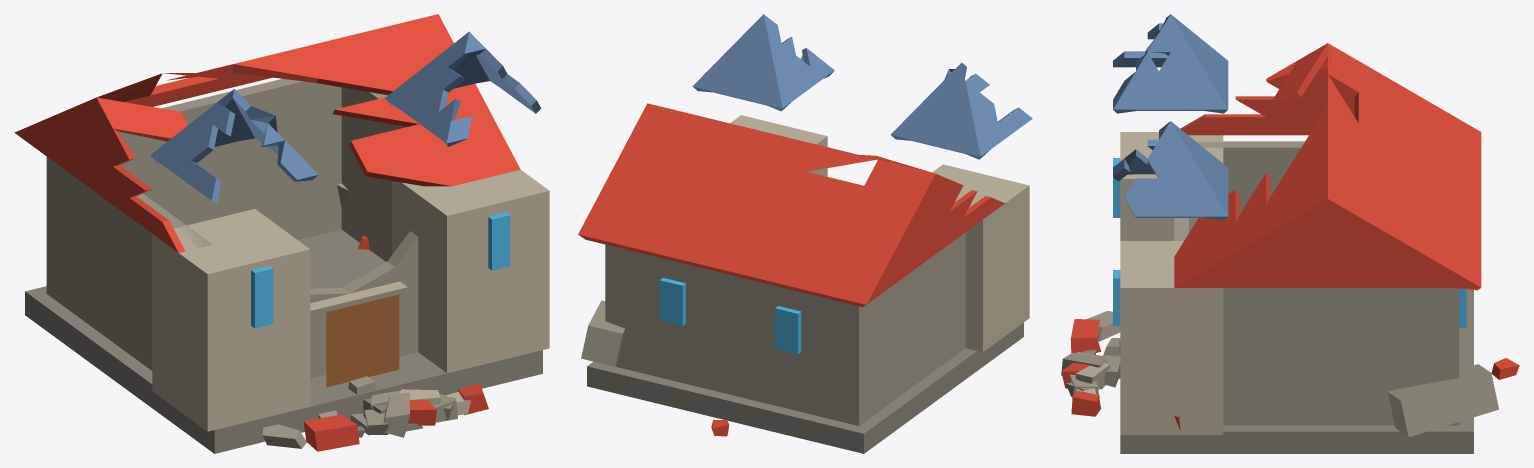
The model's file is house_t3_v3_dmg1.glb.
3 renders of one model, left to right at view 1: azimuth 30°, elevation 25°; view 2: azimuth 150°, elevation 25°; view 3: azimuth 270°, elevation 25°, orthographic. The views are drawn at different scales.
Visible parts, largest first — view 1: house_t3_v3_dmg1; view 2: house_t3_v3_dmg1; view 3: house_t3_v3_dmg1.
Boxes of the visible parts, <box> form: house_t3_v3_dmg1: <box>14,14,549,453</box>; house_t3_v3_dmg1: <box>578,14,1032,453</box>; house_t3_v3_dmg1: <box>1061,14,1519,453</box>.
Bounding box in the file's own units: 0.7933 × 0.7 × 0.9329.
1 material, 1 textured.
